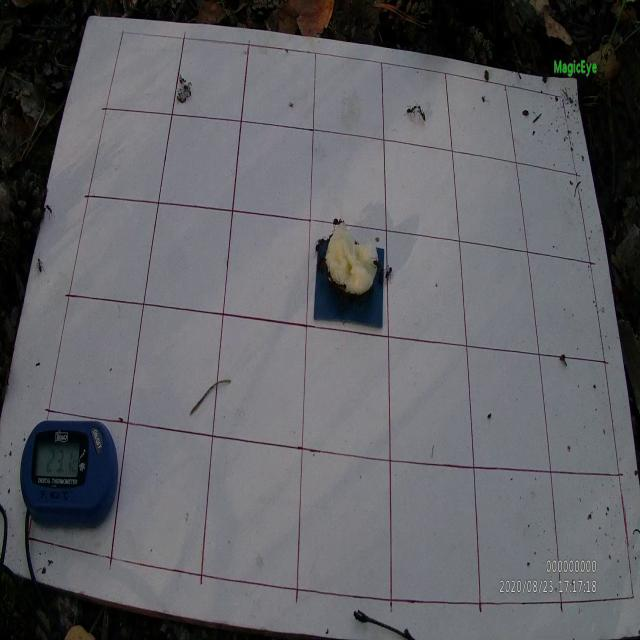Ant: (313, 236, 325, 258), (35, 257, 47, 278), (416, 103, 426, 126), (404, 105, 416, 122), (382, 266, 393, 283), (45, 205, 55, 220), (372, 258, 382, 270)
